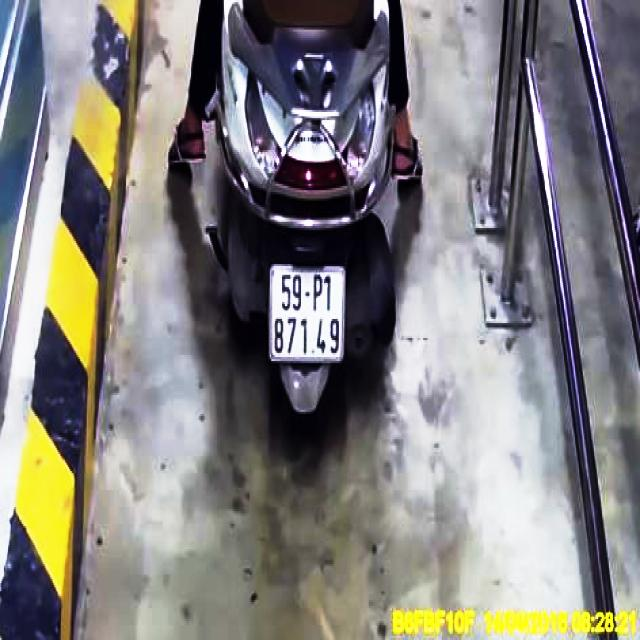license_plate: (270, 269, 347, 363)
